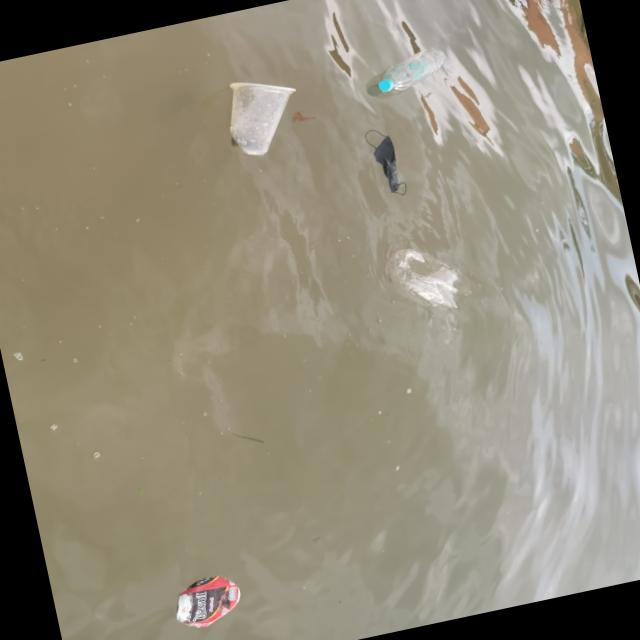can: (166, 571, 249, 634)
plastic: (368, 43, 452, 96)
plastic bottle: (208, 65, 308, 162), (370, 234, 467, 326)
unknow: (351, 116, 413, 205)
